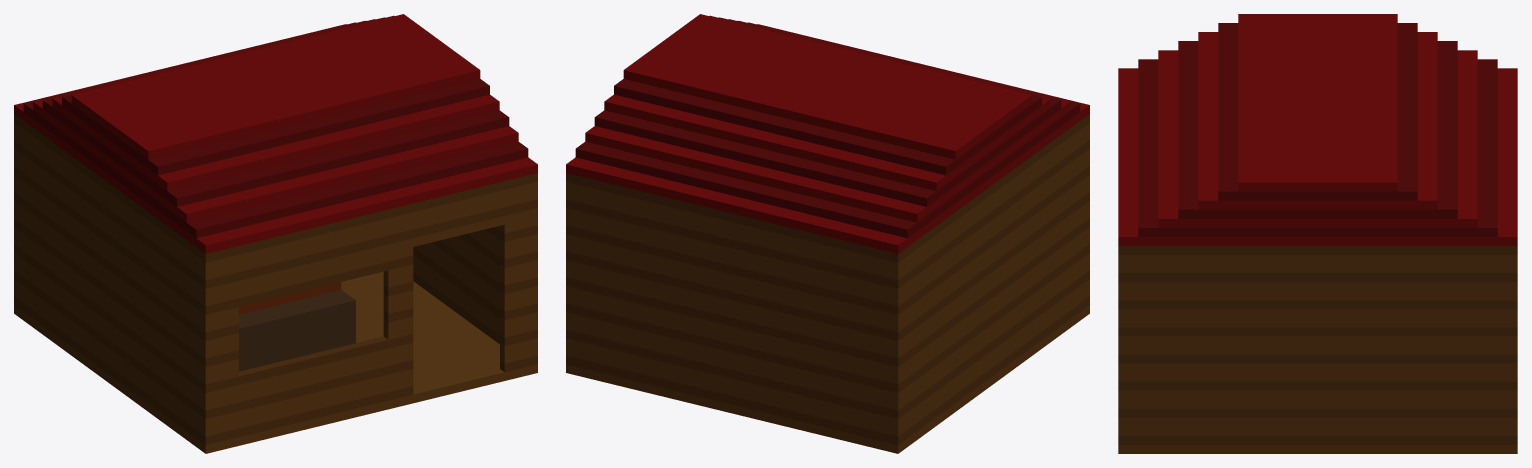
Rendered from Restraunt.obj.
3 views of the same model, side by side, from view 1: azimuth 30°, elevation 25°; view 2: azimuth 150°, elevation 25°; view 3: azimuth 270°, elevation 25° (orthographic). The views are drawn at different scales.
Size of the model in its own units: 4 by 3 by 4.
Materials: 1 (1 with a texture image).
